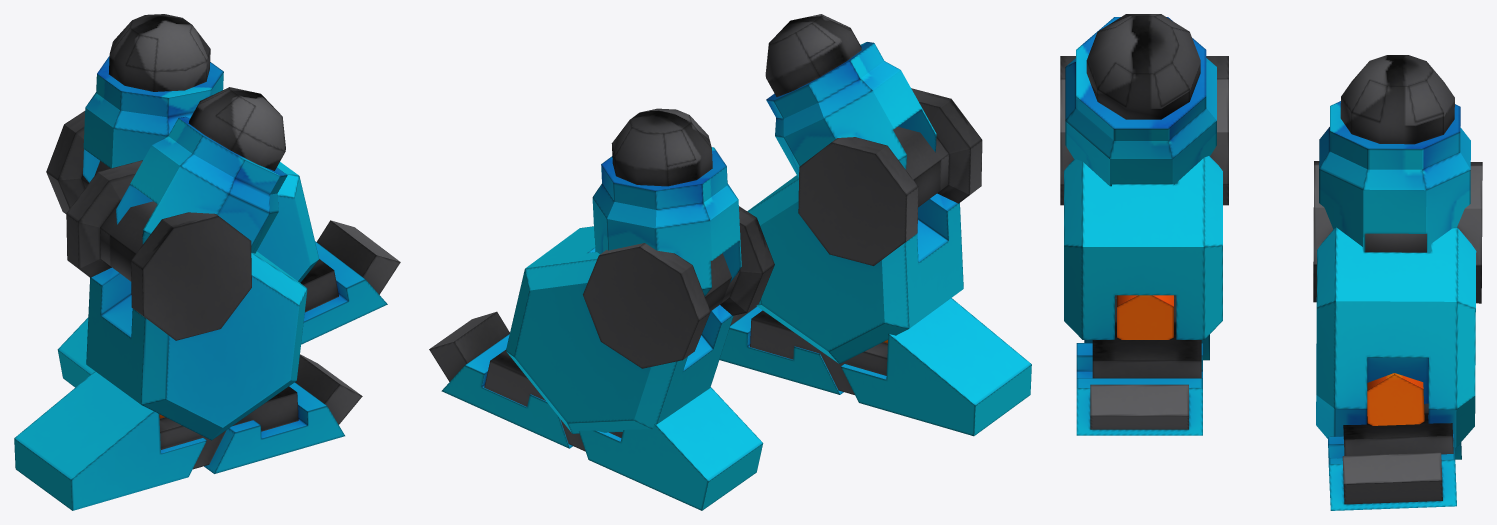
File: Bottom_Idle20.obj
3 renders of one model, left to right at view 1: azimuth 30°, elevation 25°; view 2: azimuth 150°, elevation 25°; view 3: azimuth 270°, elevation 25°, orthographic. The views are drawn at different scales.
Visible parts, largest first — view 1: Object013, Object014, Object012, Object009, Object011, Object010; view 2: Object013, Object010, Object014, Object011, Object009, Object012; view 3: Object010, Object013, Object009, Object012, Object014, Object011.
Part boxes in pixels (box(x1,y1,x2,y2)): Object013: box(66, 160, 307, 440); Object014: box(14, 354, 362, 510); Object012: box(116, 87, 287, 253); Object009: box(83, 14, 223, 182); Object011: box(57, 220, 400, 387); Object010: box(46, 111, 319, 282); Object013: box(747, 88, 982, 363); Object010: box(506, 206, 774, 433); Object014: box(719, 298, 1031, 436); Object011: box(429, 311, 763, 510); Object009: box(592, 108, 741, 296); Object012: box(765, 14, 936, 177); Object010: box(1313, 161, 1482, 447); Object013: box(1060, 56, 1228, 339); Object009: box(1319, 55, 1470, 252); Object012: box(1065, 14, 1216, 186); Object014: box(1076, 295, 1209, 435); Object011: box(1327, 373, 1461, 510).
Bounding box in the file's own units: 128 × 106 × 94.65.
